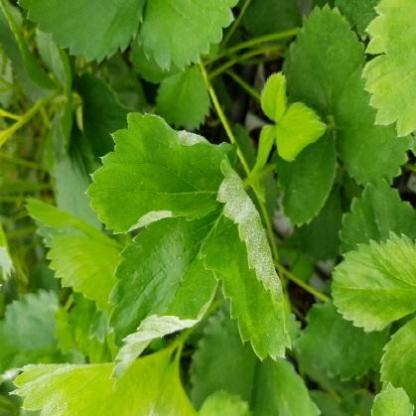Strawberry_Powdery_Mildew_Leaf: (107, 203, 225, 381), (199, 154, 293, 363), (83, 112, 238, 236), (8, 346, 174, 415)
